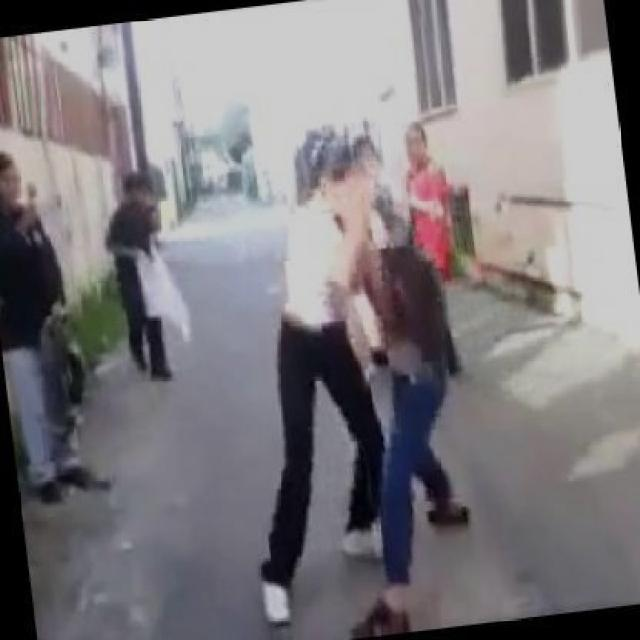fight: (214, 136, 486, 638)
non-fight: (0, 132, 106, 500)
